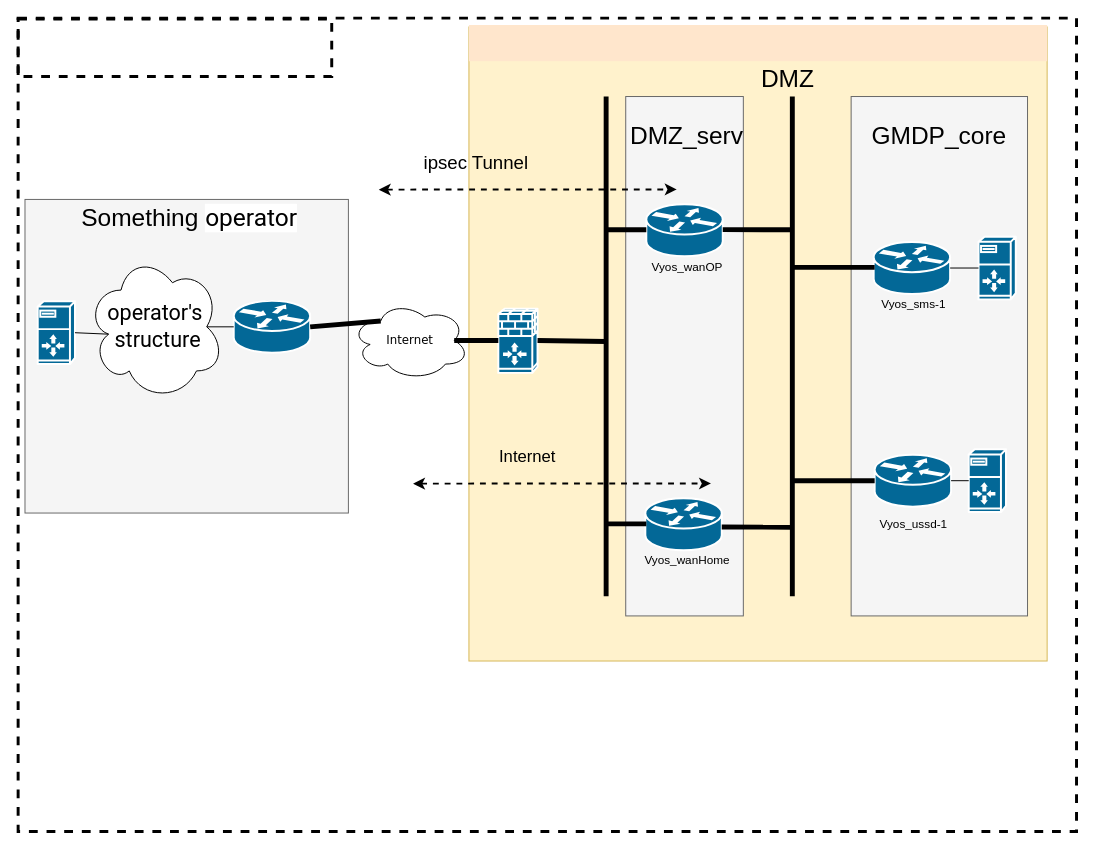
This 1095x850 diagram has some shape labels left out. Each missing label, with the centre of its shape:
"CLoudeService" belongs at [757,42].
"Внутренняя Базовая схема подключения внешних компаний" belongs at [174,47].
